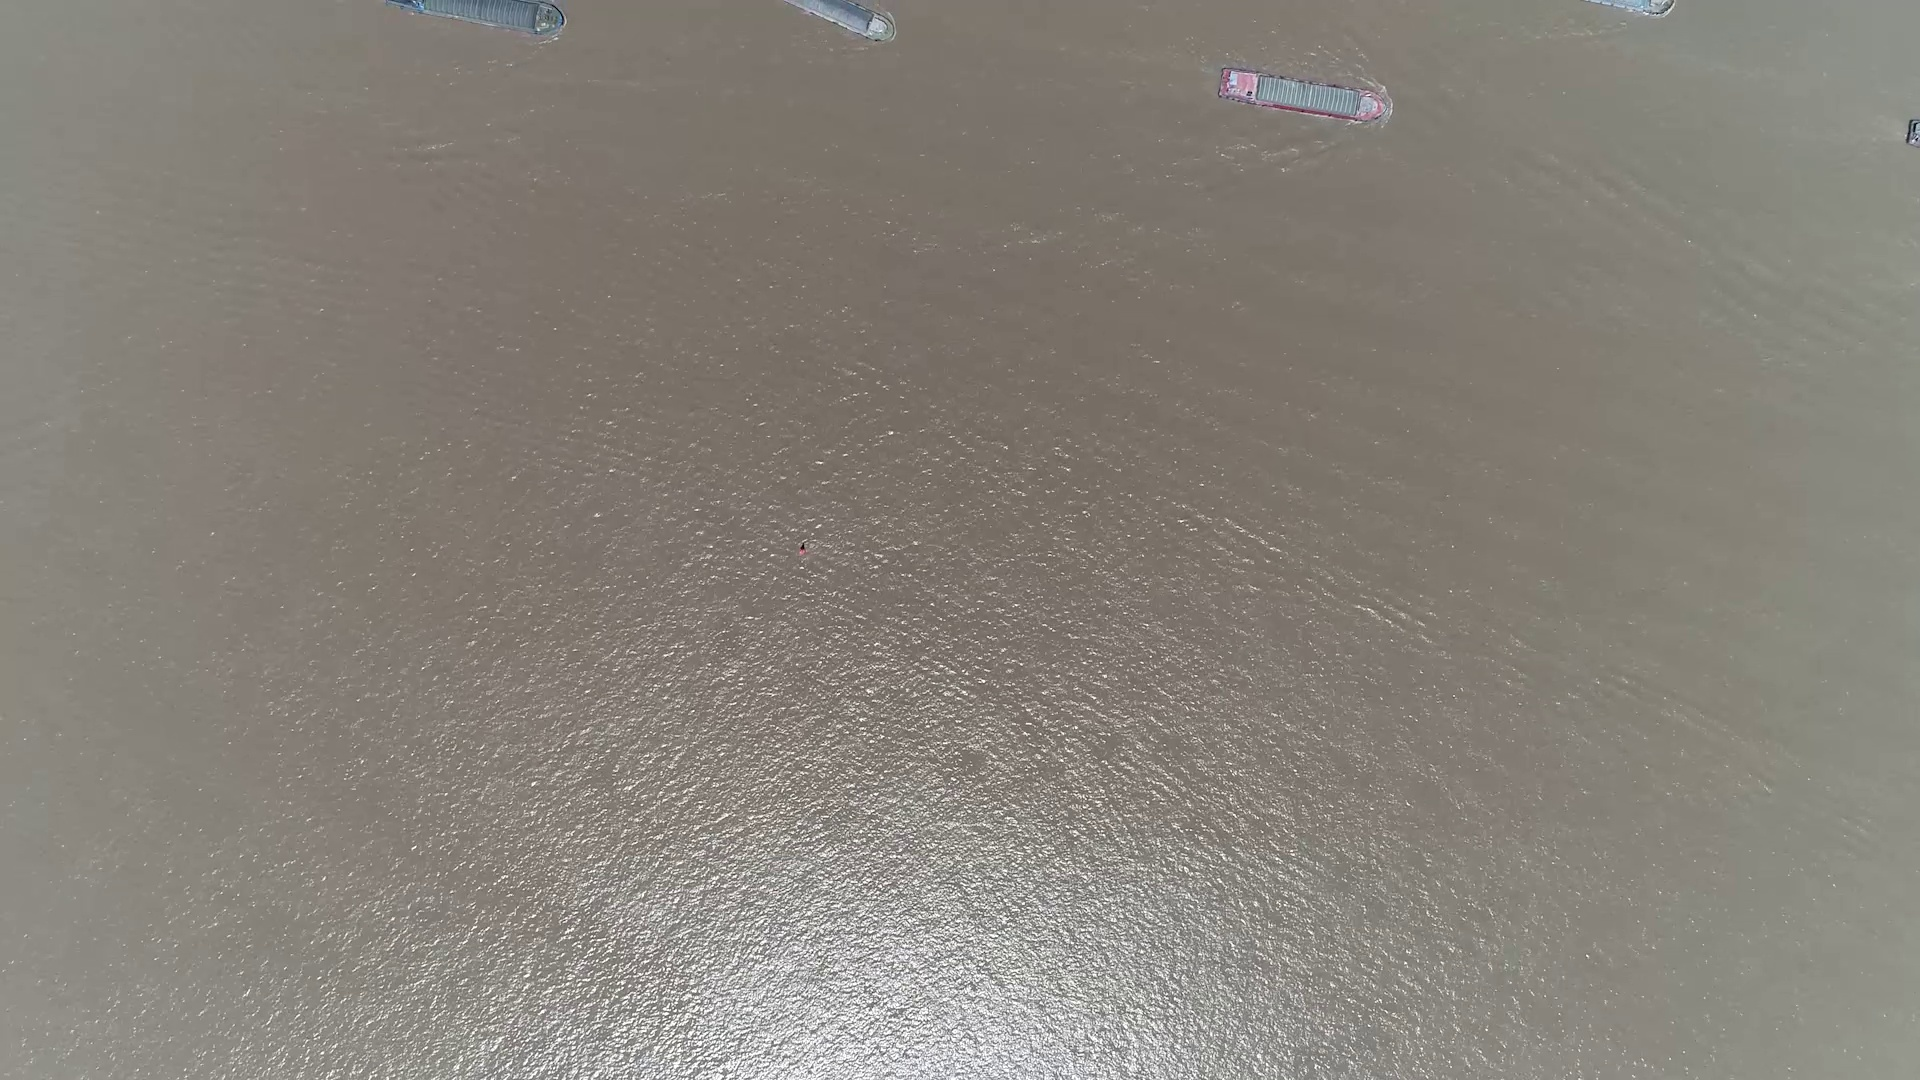ship: (1215, 71, 1389, 124), (384, 1, 563, 32), (787, 0, 901, 41), (1586, 0, 1671, 15)
